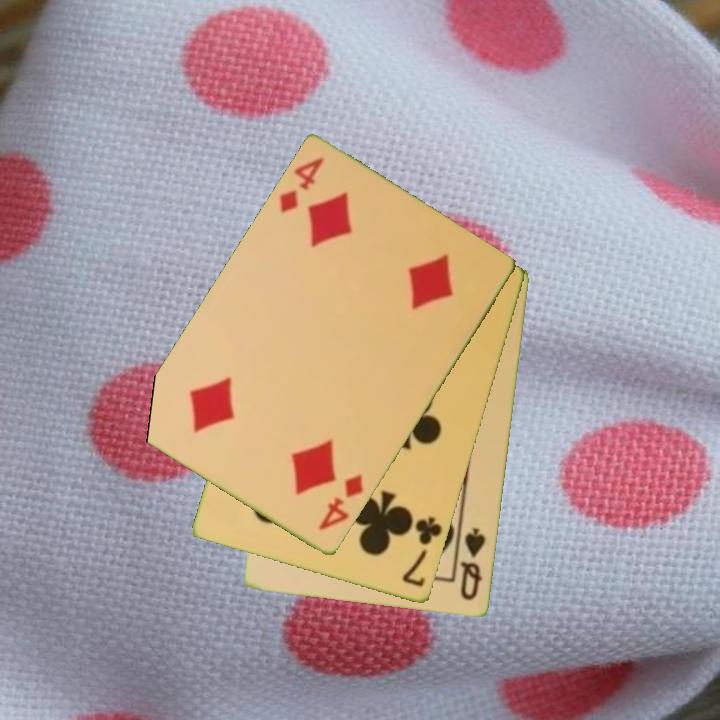4d: (275, 154, 328, 217), (315, 471, 367, 534)
7c: (399, 513, 446, 591)
Qs: (457, 524, 489, 604)
